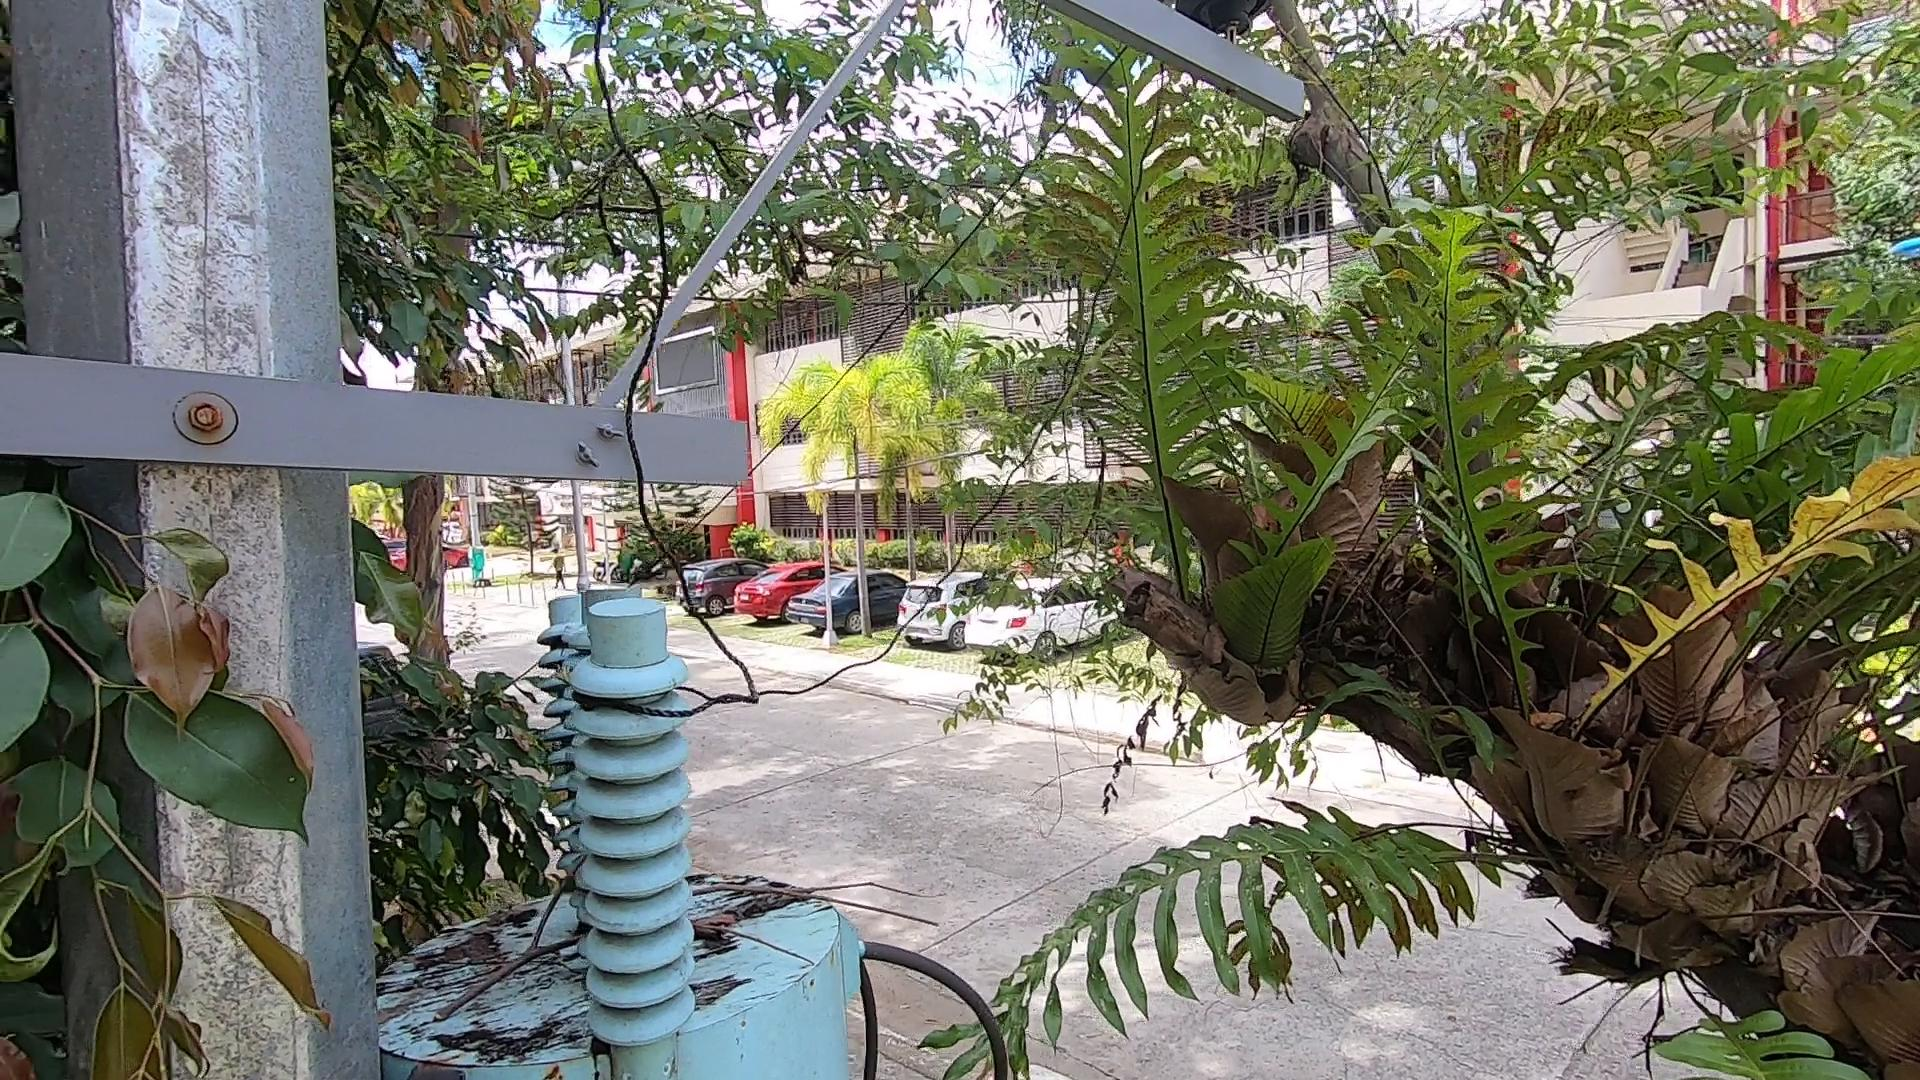branch with leaves: (11, 496, 360, 1064)
leaf: (417, 923, 506, 969), (684, 893, 744, 957)
tree branch: (417, 872, 953, 994)
